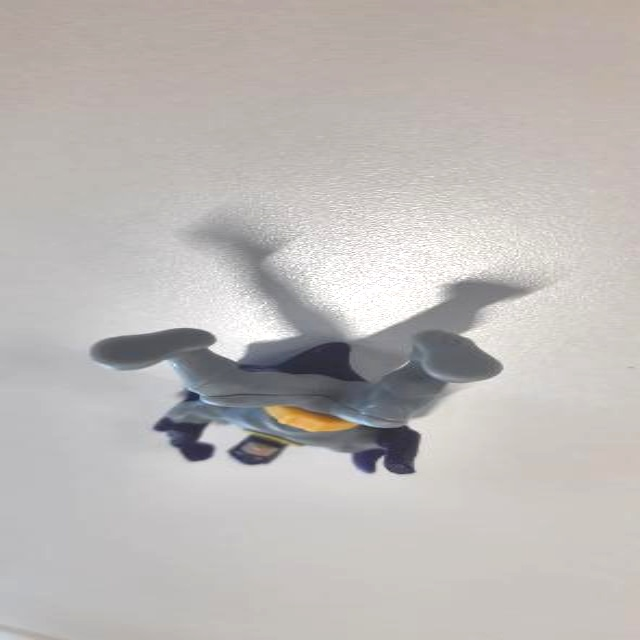Batman: (92, 328, 507, 480)
